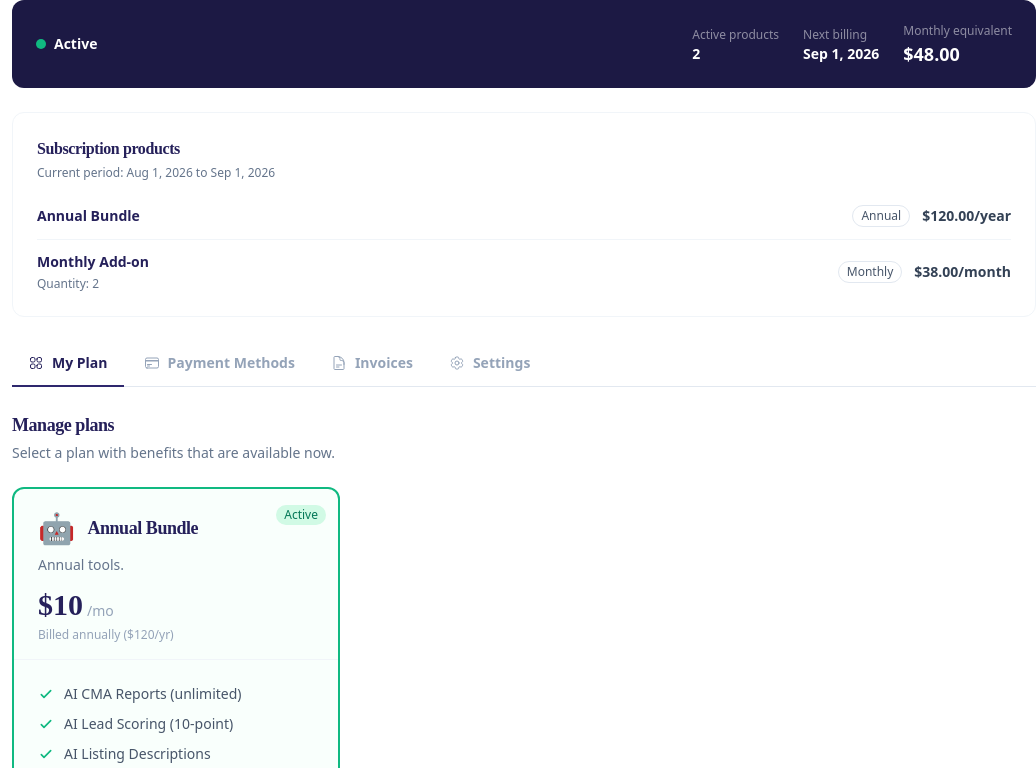
Test: BillingDashboard › shows each item interval and includes monthly add-ons in the total
Check: the text "Annual" is shown, box [852,205,910,227]
Check: the text "$120.00/year" is shown, box [922,206,1011,226]
Click the button "Settings" at (490, 364), box [433,341,546,387]
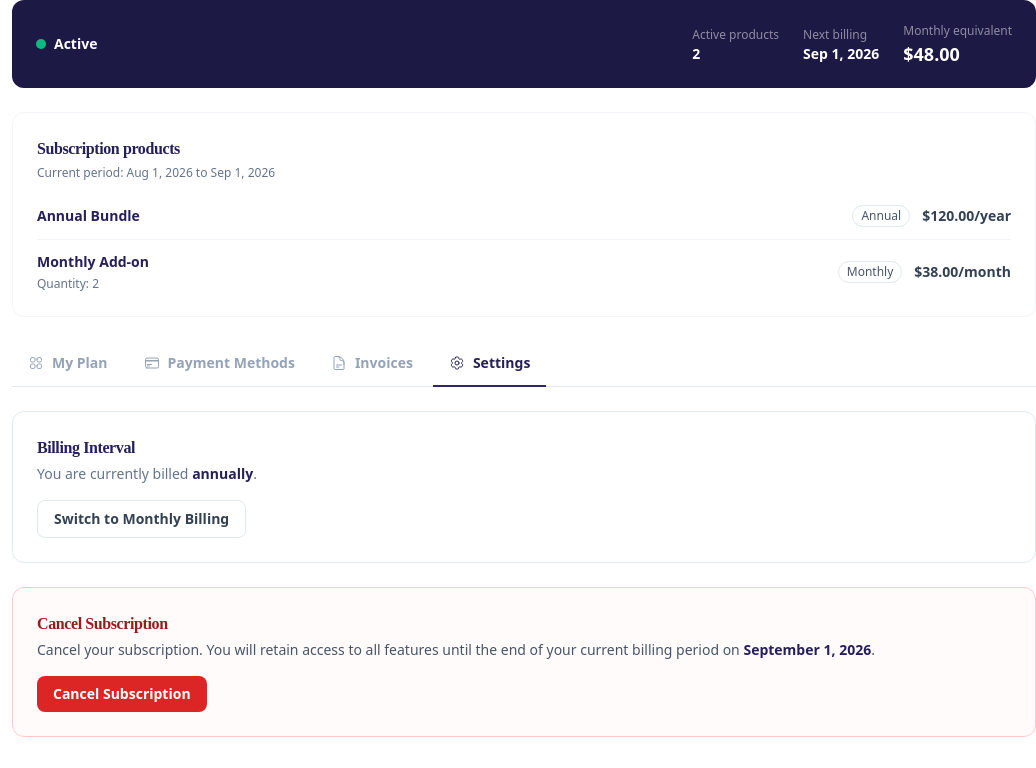
Check: the text "You are currently billed annually." is shown, box [37,464,257,483]
Check: the button "Switch to Monthly Billing" is shown, box [37,500,246,538]
